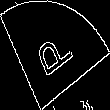P_SW: (31, 25, 79, 85)
